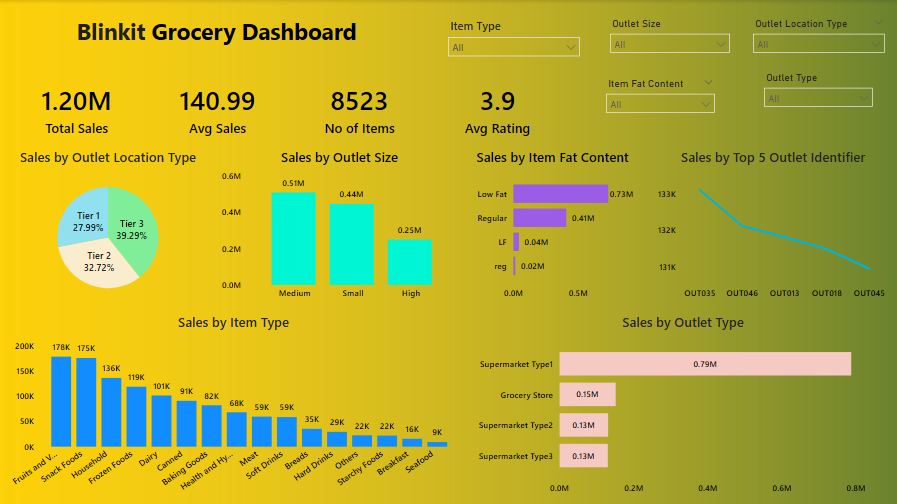

The dashboard page shown, as its layout file describes it:
{"tool":"powerbi","page":{"name":"Dashboard","canvas":[1280,720],"ordinal":0},"visuals":[{"type":"textbox","box":[11.3,0,596.7,76.5],"z":0},{"type":"card","fields":{"Values":["Sum(BlinkIT Grocery Data.Sales)"]},"box":[21.3,96.4,180,113.4],"z":1000},{"type":"card","fields":{"Values":["Measures (2).Avg Sales"]},"box":[221.1,96.4,180,113.4],"z":2000},{"type":"card","fields":{"Values":["Measures (2).No of Items"]},"box":[422.4,96.4,180,113.4],"z":3000},{"type":"card","fields":{"Values":["Measures (2).Avg Rating"]},"box":[618,96.4,180,113.4],"z":4000},{"type":"slicer","fields":{"Values":["BlinkIT Grocery Data.Item Type"]},"box":[627.9,19.8,206.9,76.5],"z":5000},{"type":"slicer","fields":{"Values":["BlinkIT Grocery Data.Outlet Size"]},"box":[857.5,19.8,189.9,76.5],"z":6000},{"type":"slicer","fields":{"Values":["BlinkIT Grocery Data.Outlet Location Type"]},"box":[1060.2,19.8,206.9,76.5],"z":7000},{"type":"slicer","fields":{"Values":["BlinkIT Grocery Data.Item Fat Content"]},"box":[851.8,104.9,174.3,76.5],"z":8000},{"type":"slicer","fields":{"Values":["BlinkIT Grocery Data.Outlet Type"]},"box":[1075.7,96.4,174.3,76.5],"z":9000},{"type":"columnChart","title":"Sales by Item Type","fields":{"Category":["BlinkIT Grocery Data.Item Type"],"Y":["Sum(BlinkIT Grocery Data.Sales)"]},"box":[11.3,443.6,644.9,266.5],"z":10000},{"type":"pieChart","title":"Sales by Outlet Location Type","fields":{"Category":["BlinkIT Grocery Data.Outlet Location Type"],"Y":["Sum(BlinkIT Grocery Data.Sales)"]},"box":[11.3,209.8,289.1,223.9],"z":11000},{"type":"clusteredBarChart","title":" Sales by Outlet Type","fields":{"Category":["BlinkIT Grocery Data.Outlet Type"],"Y":["Sum(BlinkIT Grocery Data.Sales)"]},"box":[674.6,443.6,592.4,266.5],"z":12000},{"type":"columnChart","title":"Sales by Outlet Size","fields":{"Category":["BlinkIT Grocery Data.Outlet Size"],"Y":["Sum(BlinkIT Grocery Data.Sales)"]},"box":[311.8,209.8,344.4,223.9],"z":13000},{"type":"barChart","title":"Sales by Item Fat Content","fields":{"Category":["BlinkIT Grocery Data.Item Fat Content"],"Y":["Sum(BlinkIT Grocery Data.Sales)"]},"box":[673.2,209.8,246.6,223.9],"z":14000},{"type":"lineChart","title":" Sales by Top 5 Outlet Identifier","fields":{"Category":["BlinkIT Grocery Data.Outlet Identifier"],"Y":["Sum(BlinkIT Grocery Data.Sales)"]},"box":[929.8,209.8,337.3,223.9],"z":15000}]}

Visuals, with their boxes in screenshot pixels (x1, y1, x2, y2), scaled from the page's 1280x720 canvas onto the 897x504 screenshot:
textbox: {"x1": 8, "y1": 0, "x2": 426, "y2": 54}
card - Sum(BlinkIT Grocery Data.Sales): {"x1": 15, "y1": 67, "x2": 141, "y2": 147}
card - Measures (2).Avg Sales: {"x1": 155, "y1": 67, "x2": 281, "y2": 147}
card - Measures (2).No of Items: {"x1": 296, "y1": 67, "x2": 422, "y2": 147}
card - Measures (2).Avg Rating: {"x1": 433, "y1": 67, "x2": 559, "y2": 147}
slicer - BlinkIT Grocery Data.Item Type: {"x1": 440, "y1": 14, "x2": 585, "y2": 67}
slicer - BlinkIT Grocery Data.Outlet Size: {"x1": 601, "y1": 14, "x2": 734, "y2": 67}
slicer - BlinkIT Grocery Data.Outlet Location Type: {"x1": 743, "y1": 14, "x2": 888, "y2": 67}
slicer - BlinkIT Grocery Data.Item Fat Content: {"x1": 597, "y1": 73, "x2": 719, "y2": 127}
slicer - BlinkIT Grocery Data.Outlet Type: {"x1": 754, "y1": 67, "x2": 876, "y2": 121}
"Sales by Item Type" columnChart: {"x1": 8, "y1": 311, "x2": 460, "y2": 497}
"Sales by Outlet Location Type" pieChart: {"x1": 8, "y1": 147, "x2": 211, "y2": 304}
" Sales by Outlet Type" clusteredBarChart: {"x1": 473, "y1": 311, "x2": 888, "y2": 497}
"Sales by Outlet Size" columnChart: {"x1": 219, "y1": 147, "x2": 460, "y2": 304}
"Sales by Item Fat Content" barChart: {"x1": 472, "y1": 147, "x2": 645, "y2": 304}
" Sales by Top 5 Outlet Identifier" lineChart: {"x1": 652, "y1": 147, "x2": 888, "y2": 304}
